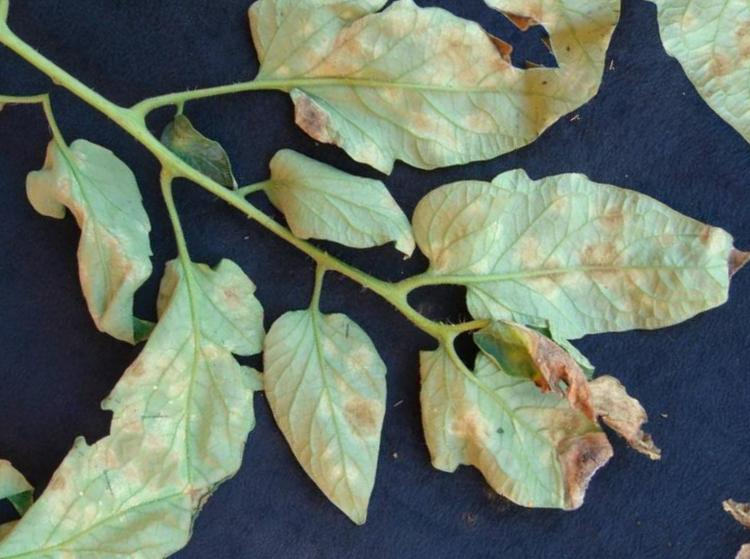Tomato mold leaf: (364, 63, 750, 444), (182, 0, 623, 280), (63, 222, 339, 507), (191, 280, 457, 541), (370, 321, 616, 547), (0, 120, 213, 354), (231, 109, 433, 291)
